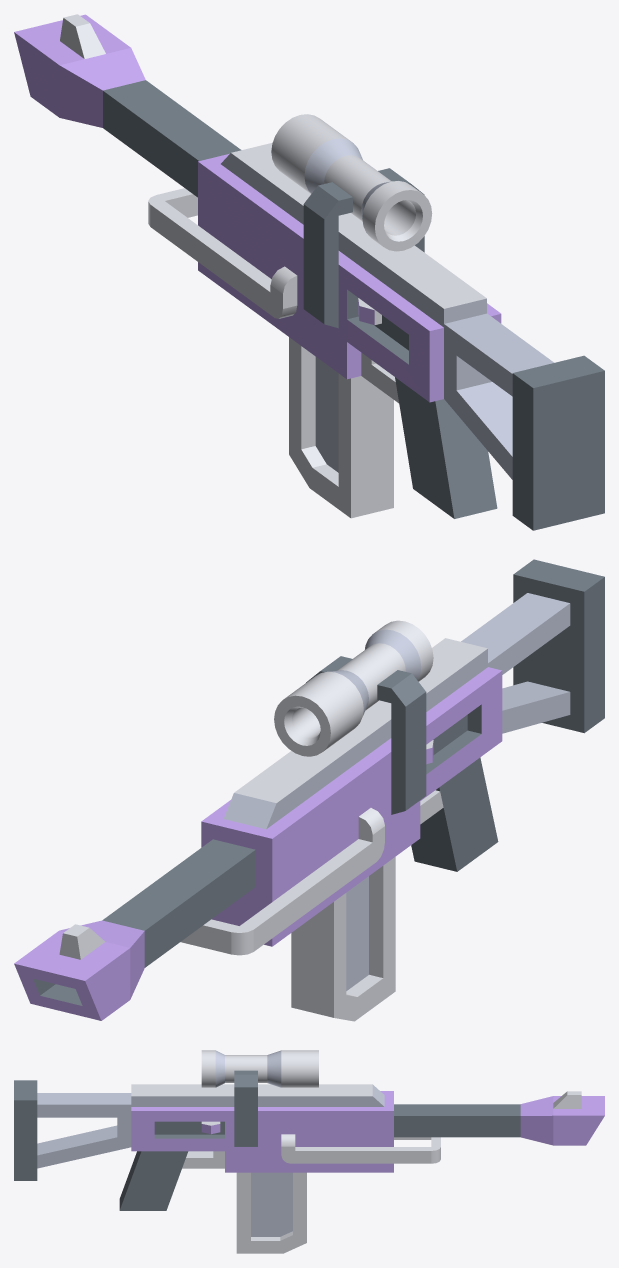
Rendered from BlasterF.glb.
3 renders of one model, top to bottom at view 1: azimuth 30°, elevation 25°; view 2: azimuth 150°, elevation 25°; view 3: azimuth 270°, elevation 25°, orthographic. The views are drawn at different scales.
Visible parts, largest first — view 1: blasterF; view 2: blasterF; view 3: blasterF.
Part boxes in pixels (x1,y1,x2,y2): blasterF: [14, 14, 604, 530]; blasterF: [14, 559, 604, 1021]; blasterF: [14, 1050, 604, 1253].
Size of the model in its own units: 0.14 by 0.46 by 1.26.
